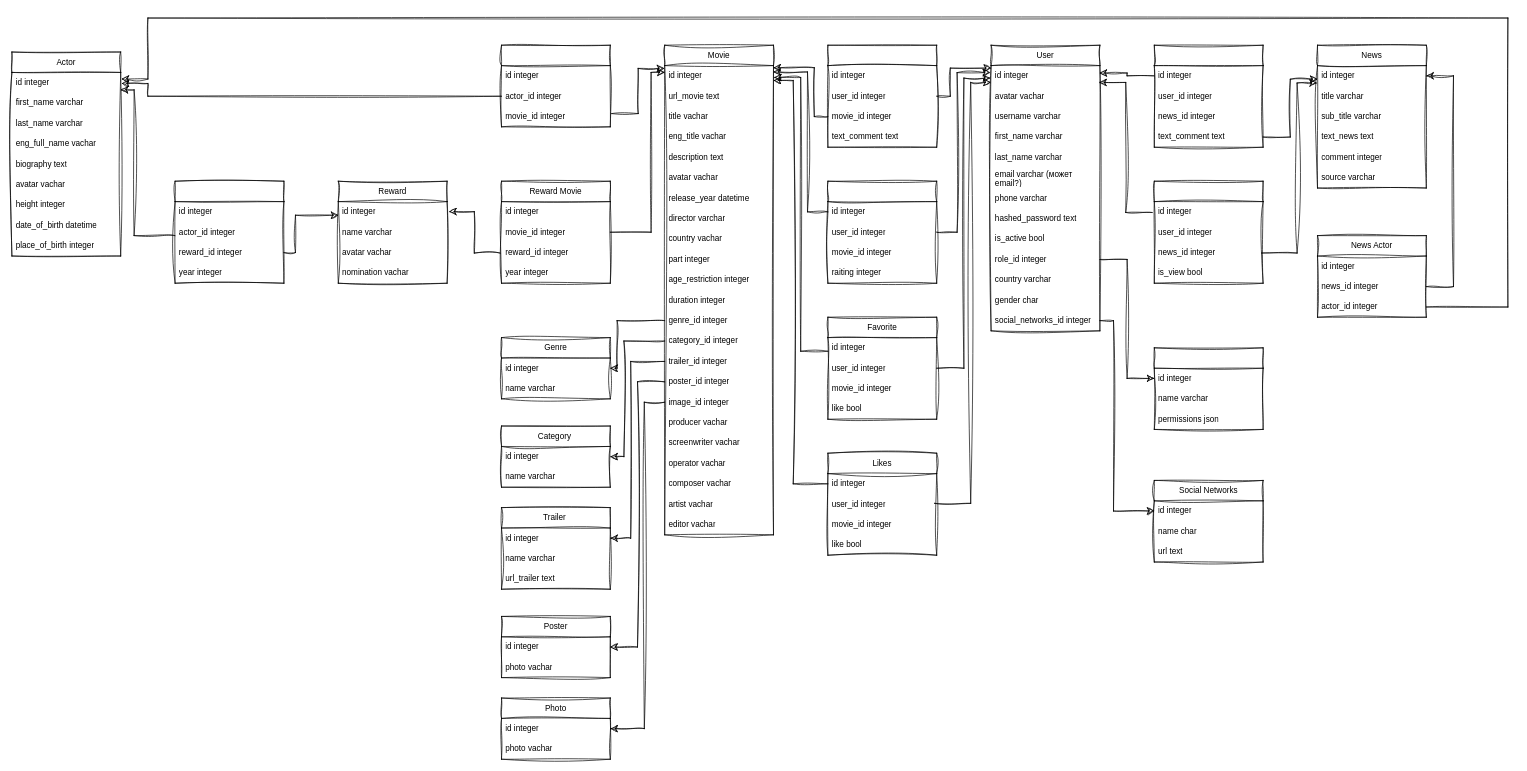
Image size: 1527x771. Some labels were removed from this diagram. The shapes that lost their labels are listed below. From the top down, each one's box as (x1, y1, x2, y2) in pixels, then its label:
(501, 45, 610, 127): Actor Movies
(827, 45, 937, 147): Movie_comments
(1154, 45, 1263, 147): News_comments
(174, 181, 284, 283): Reward Actor
(827, 181, 937, 283): Rating_movie
(1154, 181, 1263, 283): News User
(1154, 347, 1263, 429): Role
